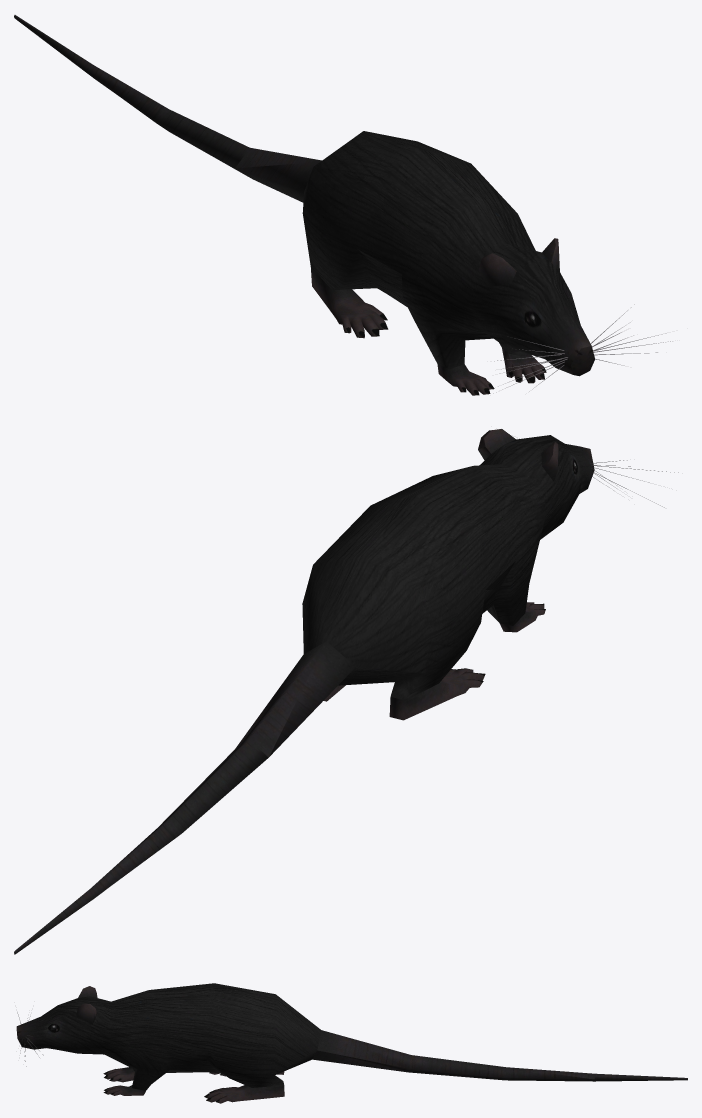
Rendered from Rat.obj.
The picture shows the model from 3 angles, top to bottom: view 1: azimuth 30°, elevation 25°; view 2: azimuth 150°, elevation 25°; view 3: azimuth 270°, elevation 25°; orthographic projection. The views are drawn at different scales.
Parts seen in each view (by area): view 1: Mesh_0118, Mesh_0119, Mesh_0120; view 2: Mesh_0118, Mesh_0119; view 3: Mesh_0118, Mesh_0119.
Part boxes in pixels (x1,y1,x2,y2): Mesh_0118: (302,131,595,395); Mesh_0119: (14,15,321,202); Mesh_0120: (493,304,672,393); Mesh_0118: (302,429,594,720); Mesh_0119: (14,641,355,954); Mesh_0118: (16,983,321,1103); Mesh_0119: (312,1030,687,1081).
Bounding box in the file's own units: 0.2239 × 0.1868 × 1.11.
Materials: 1 (1 with a texture image).
